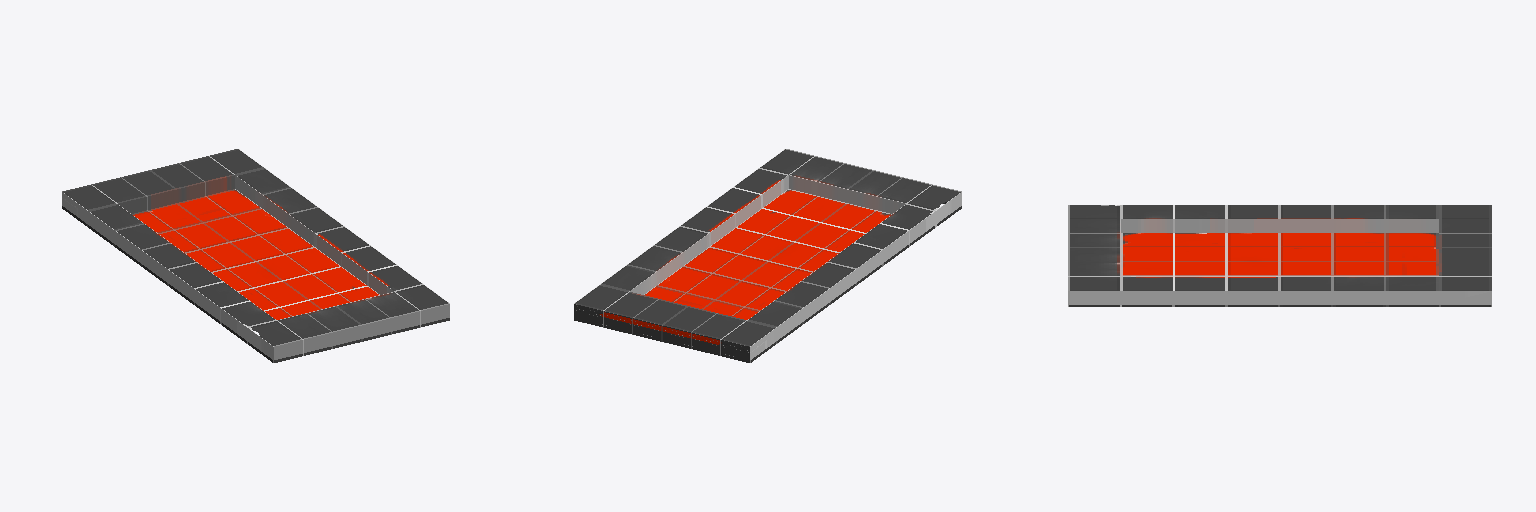
3 renders of one model, left to right at view 1: azimuth 30°, elevation 25°; view 2: azimuth 150°, elevation 25°; view 3: azimuth 270°, elevation 25°, orthographic.
Visible parts, largest first — view 1: pCube1; view 2: pCube1; view 3: pCube1.
Boxes of the visible parts, x1,y1,x2,y2 form: pCube1: [62, 149, 449, 362]; pCube1: [574, 149, 961, 362]; pCube1: [1068, 205, 1491, 306].
Bounding box in the file's own units: 11.92 × 1.07 × 24.8.
1 materials, 1 textured.